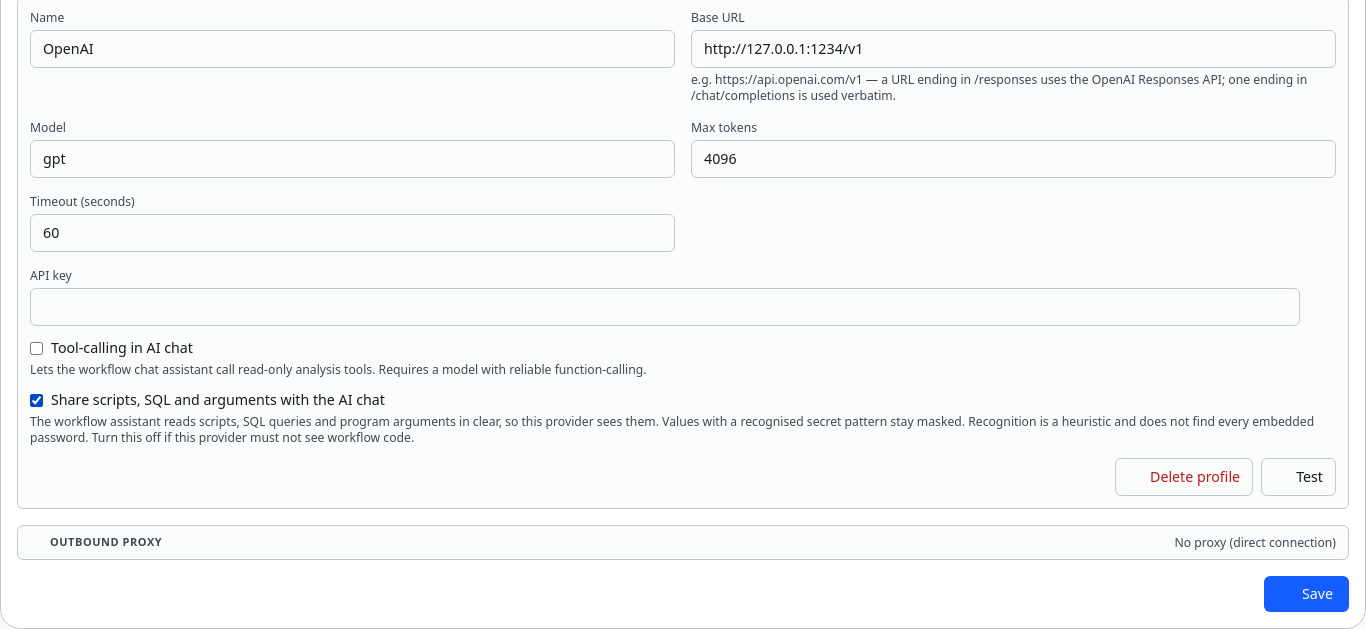
IntegrationsSection — LLM card › collapses the proxy block while no proxy is configured, and summarises the mode
(page scrolled)
Expected: the field showing "http://127.0.0.1:1234/v1" is shown, [691,30,1336,68]
Click the button "Outbound proxy No proxy (direct connection)": (106, 542) [18,526,1348,559]
(page scrolled)
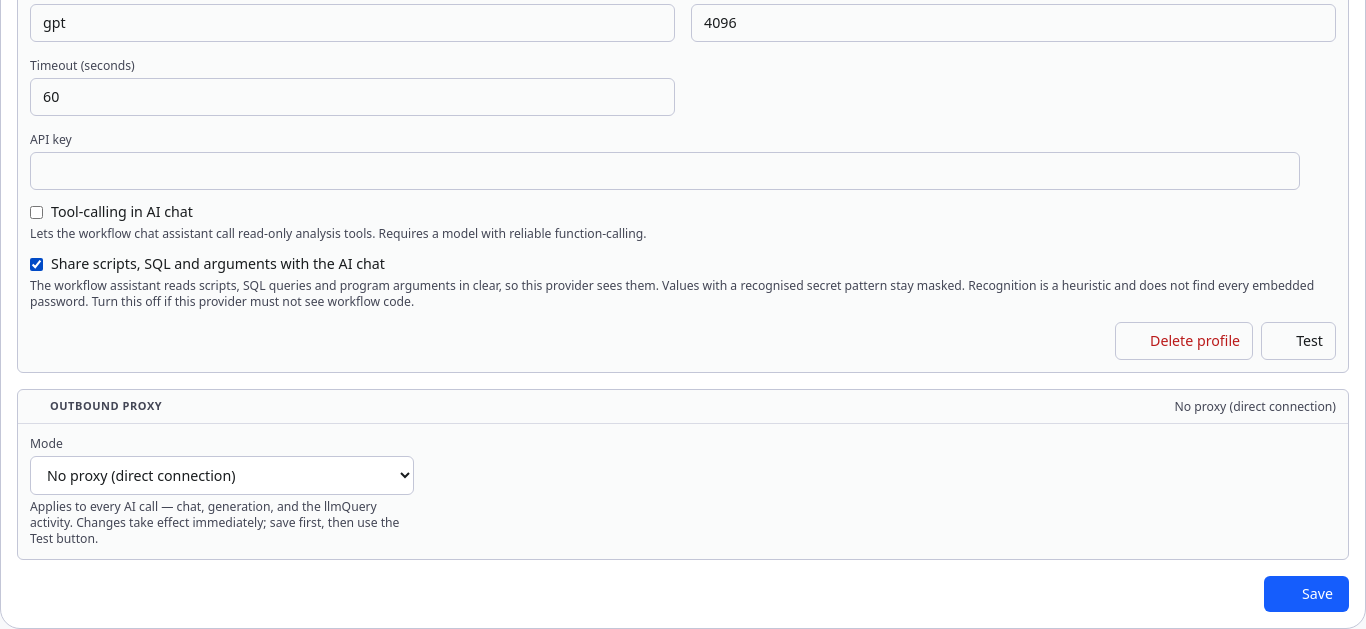
Expected: the button "Outbound proxy No proxy (direct connection)" is expanded, [18,390,1348,423]
Expected: the dropdown labelled "Mode" is shown, [30,456,414,495]
